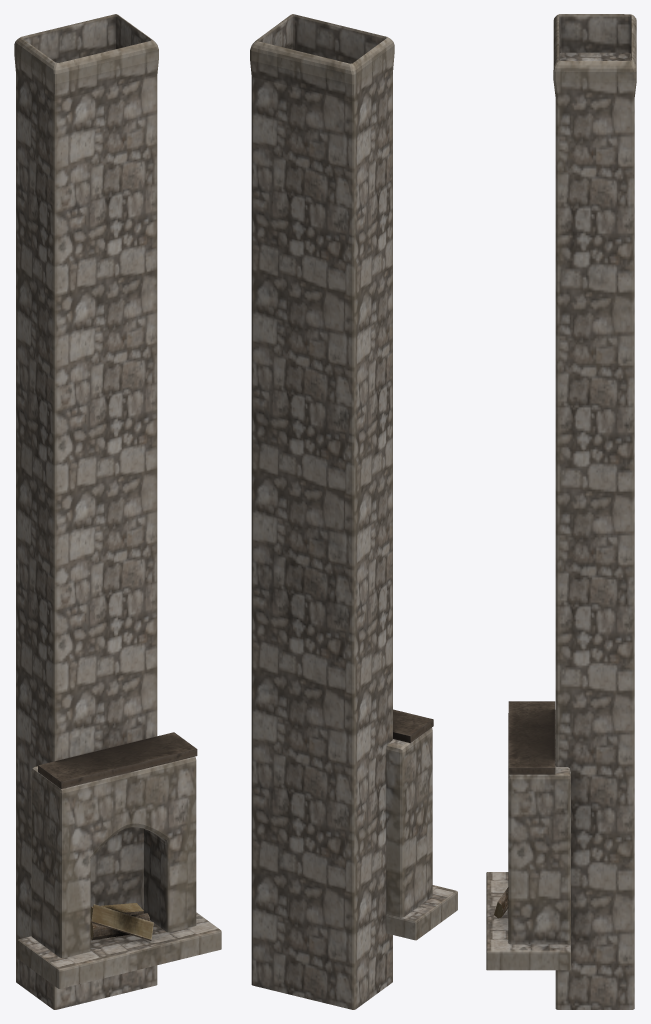
The model's file is BW_Farmhouse01_Chimney.fbx.
3 views of the same model, side by side, from view 1: azimuth 30°, elevation 25°; view 2: azimuth 150°, elevation 25°; view 3: azimuth 270°, elevation 25° (orthographic).
Visible parts, largest first — view 1: BW_Farmhouse01_Chimney; view 2: BW_Farmhouse01_Chimney; view 3: BW_Farmhouse01_Chimney.
Boxes of the visible parts, left/top/right/bottom form: BW_Farmhouse01_Chimney: left=14, top=14, right=221, bottom=1009; BW_Farmhouse01_Chimney: left=250, top=14, right=457, bottom=1009; BW_Farmhouse01_Chimney: left=486, top=14, right=636, bottom=1009.
Size of the model in its own units: 1.2 by 6.66 by 0.9595.
